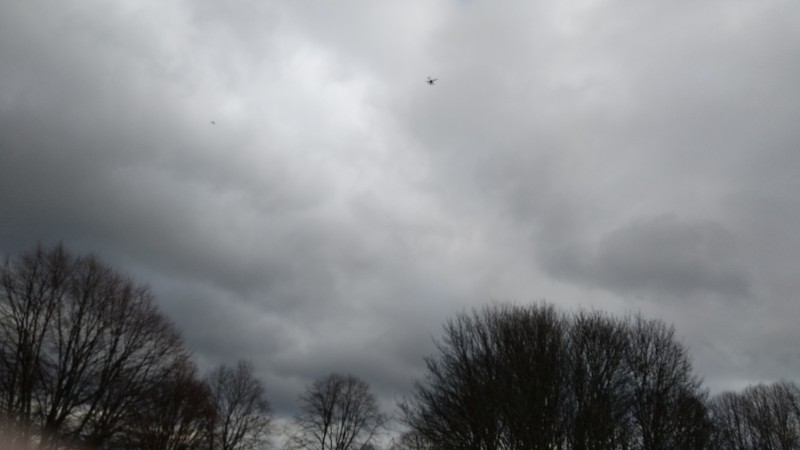drone: (426, 77, 438, 86)
